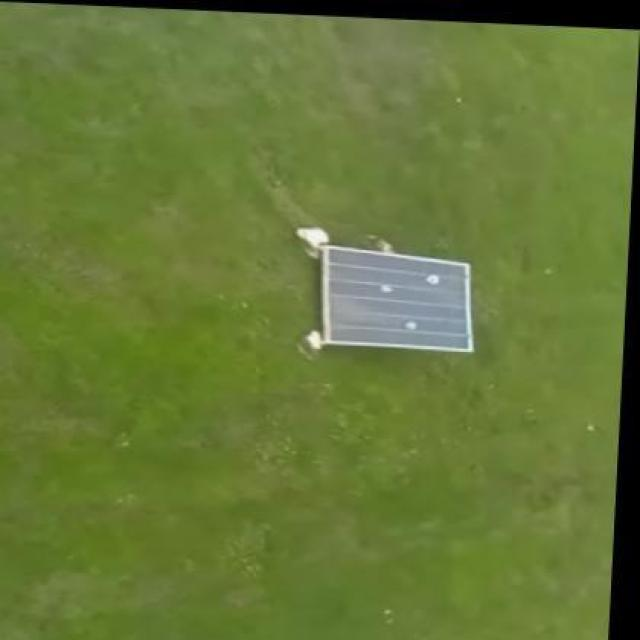soiled: (321, 242, 474, 355)
